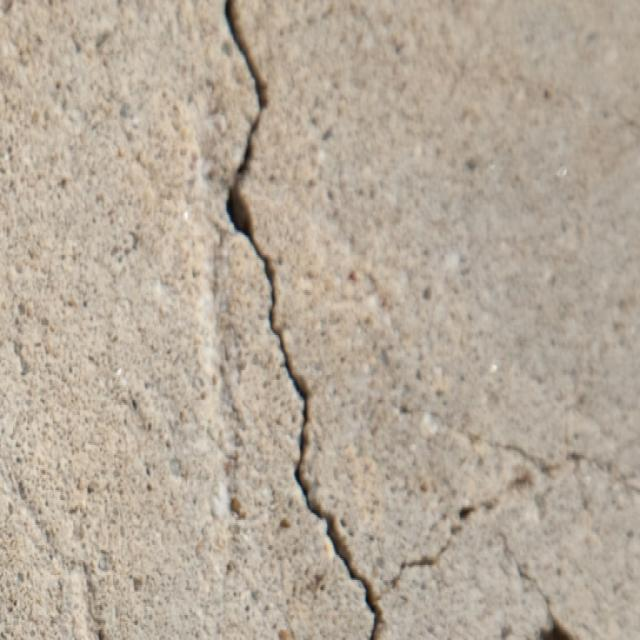crack: (218, 2, 383, 638), (385, 396, 638, 638)
